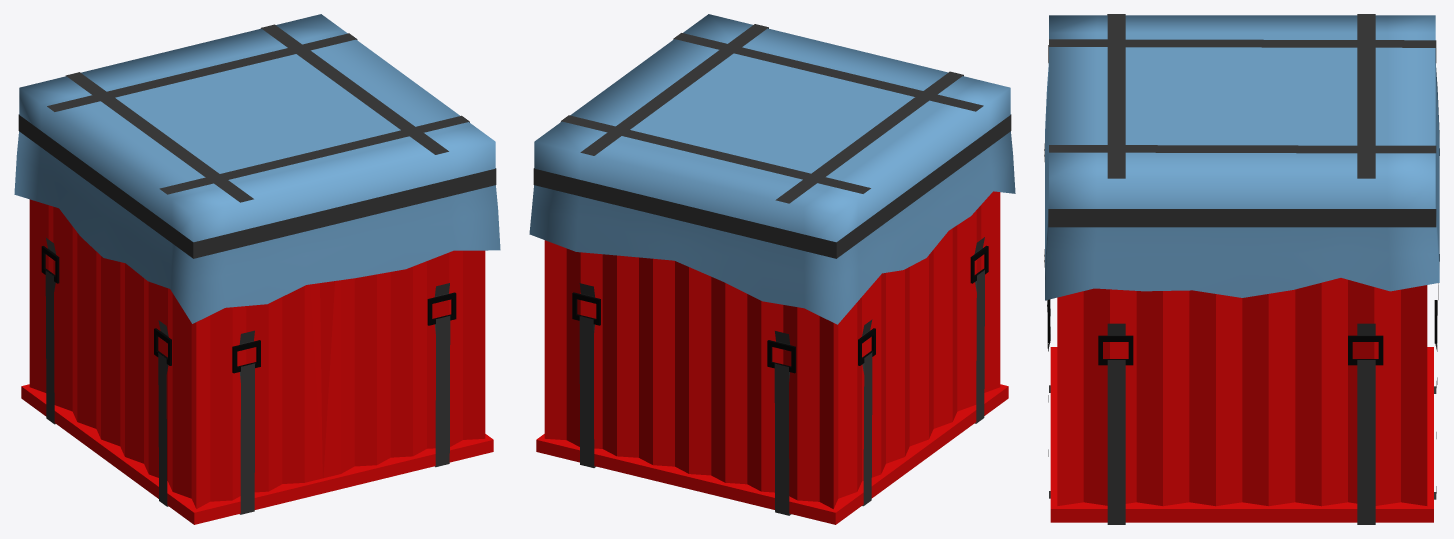
Rendered from airdrop.dae.
3 renders of one model, left to right at view 1: azimuth 30°, elevation 25°; view 2: azimuth 150°, elevation 25°; view 3: azimuth 270°, elevation 25°, orthographic. The views are drawn at different scales.
Parts seen in each view (by area): view 1: Cube_003, Cube, Cube_004, Cube_005, Cube_001; view 2: Cube_003, Cube, Cube_004, Cube_005, Cube_001; view 3: Cube_003, Cube, Cube_004, Cube_001, Cube_005.
Part boxes in pixels (left/top/right/bottom): Cube_003: left=14, top=14, right=500, bottom=323; Cube: left=29, top=199, right=485, bottom=508; Cube_004: left=41, top=24, right=469, bottom=514; Cube_005: left=18, top=114, right=496, bottom=258; Cube_001: left=21, top=384, right=493, bottom=524; Cube_003: left=529, top=14, right=1015, bottom=324; Cube: left=544, top=191, right=1000, bottom=508; Cube_004: left=561, top=24, right=988, bottom=515; Cube_005: left=533, top=114, right=1011, bottom=258; Cube_001: left=536, top=384, right=1008, bottom=524; Cube_003: left=1045, top=15, right=1439, bottom=300; Cube: left=1057, top=278, right=1427, bottom=506; Cube_004: left=1044, top=14, right=1439, bottom=524; Cube_001: left=1050, top=347, right=1433, bottom=522; Cube_005: left=1048, top=45, right=1436, bottom=227.
Bounding box in the file's own units: 2.14 × 2.14 × 2.07.
